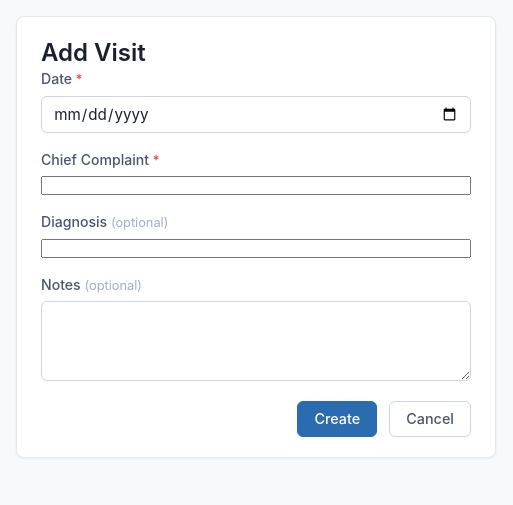
Scenario: VisitNewPage › renders validation errors from a 422
Click the button "Create": (337, 419) x1=297 y1=401 x2=377 y2=437
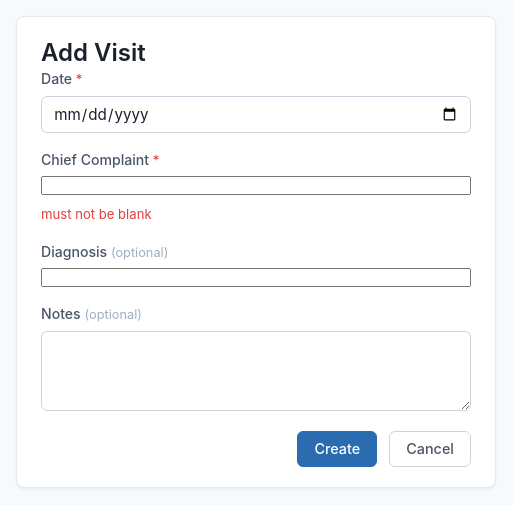
Check: the text "must not be blank" is shown, box x1=41 y1=206 x2=152 y2=222
